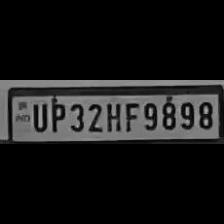2: (84, 100, 103, 132)
3: (66, 100, 84, 132)
8: (158, 97, 176, 130), (195, 98, 213, 130)
9: (140, 99, 158, 131), (178, 98, 196, 130)
F: (122, 100, 139, 132)
H: (103, 100, 121, 132)
P: (48, 100, 66, 132)
U: (28, 100, 48, 132)
